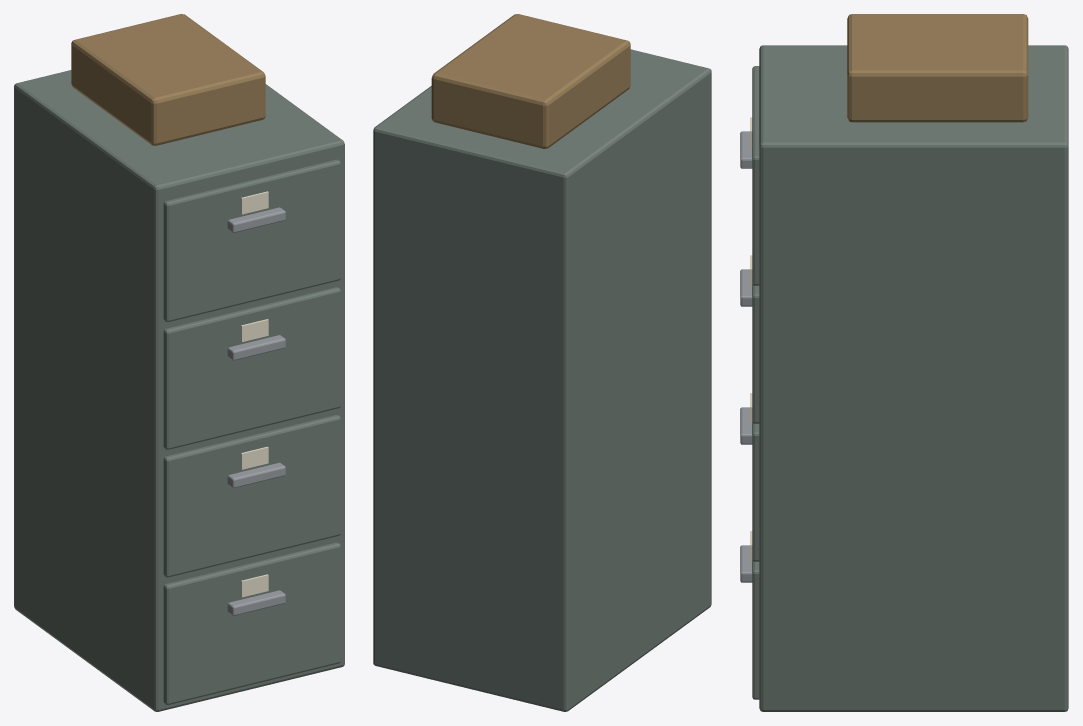
The model's file is filing_cabinet.glb.
3 views of the same model, side by side, from view 1: azimuth 30°, elevation 25°; view 2: azimuth 150°, elevation 25°; view 3: azimuth 270°, elevation 25° (orthographic). The views are drawn at different scales.
Visible parts, largest first — view 1: filing_cabinet; view 2: filing_cabinet; view 3: filing_cabinet.
Part boxes in pixels (x1,y1,x2,y2): filing_cabinet: (14, 14, 344, 711); filing_cabinet: (373, 14, 711, 711); filing_cabinet: (740, 14, 1068, 711).
Size of the model in its own units: 0.5 by 1.44 by 0.69.
